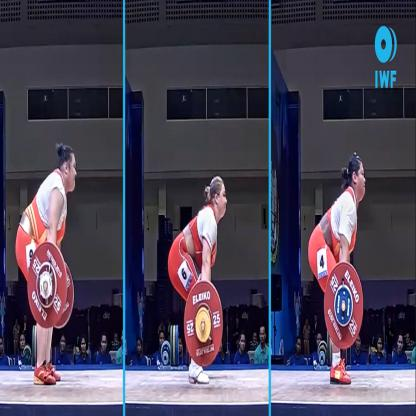Barbell: (23, 238, 73, 330), (178, 276, 226, 364), (323, 258, 365, 353)
